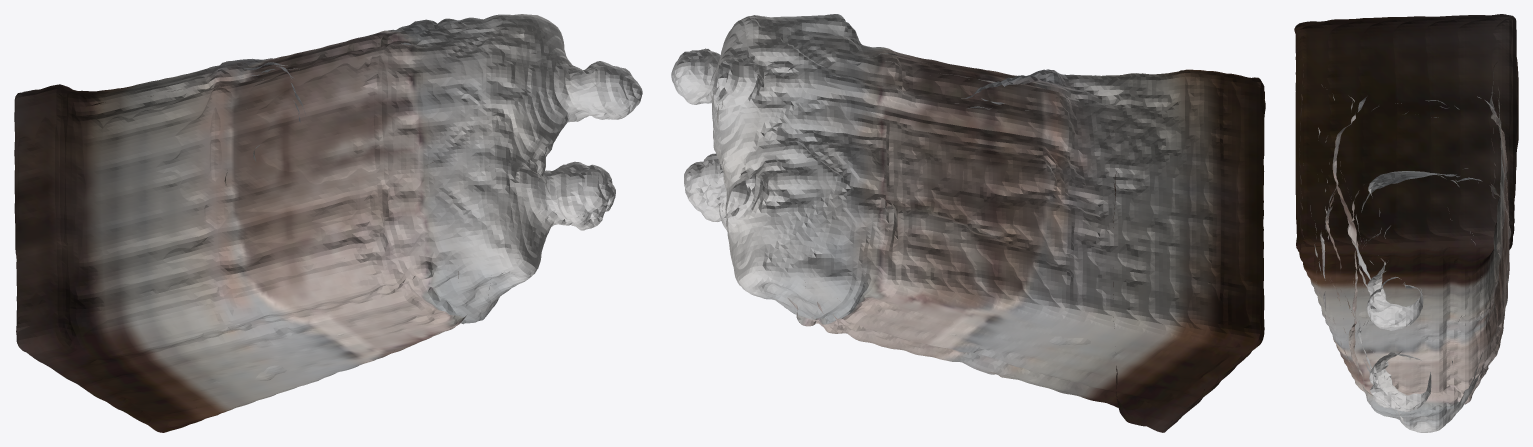
File: statue_shanghai.glb
The picture shows the model from 3 angles, left to right: view 1: azimuth 30°, elevation 25°; view 2: azimuth 150°, elevation 25°; view 3: azimuth 270°, elevation 25°; orthographic projection. The views are drawn at different scales.
Parts seen in each view (by area): view 1: geometry_0; view 2: geometry_0; view 3: geometry_0.
Boxes of the visible parts, x1,y1,x2,y2 form: geometry_0: [14, 14, 642, 432]; geometry_0: [671, 14, 1265, 432]; geometry_0: [1294, 14, 1518, 432].
Bounding box in the file's own units: 1.04 × 0.5143 × 0.4157.
